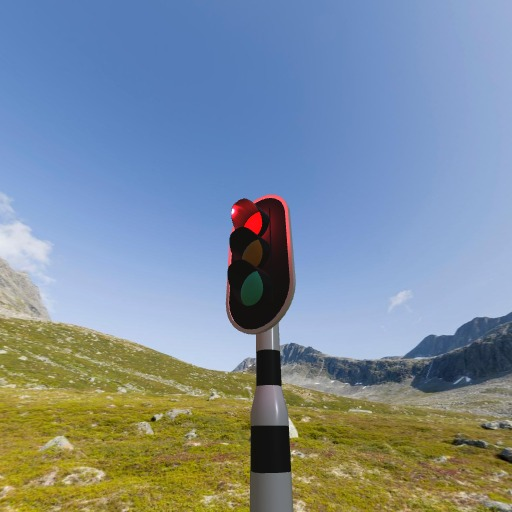Red_Light: (225, 191, 298, 340)
